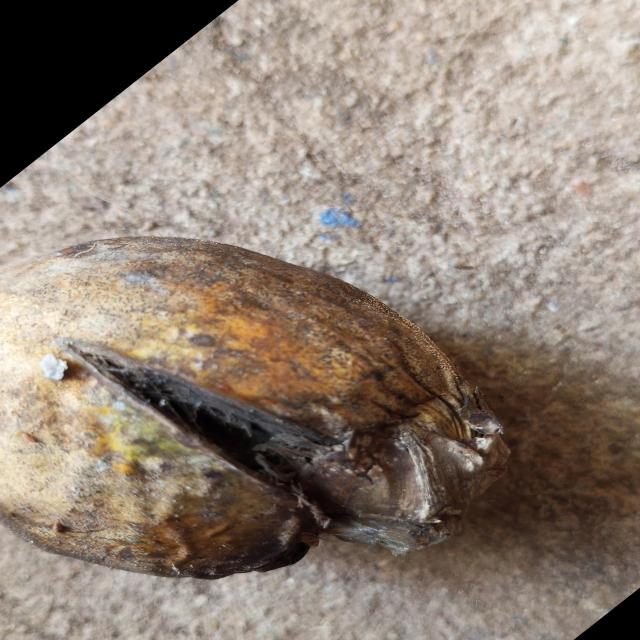damaged: (1, 237, 509, 579)
